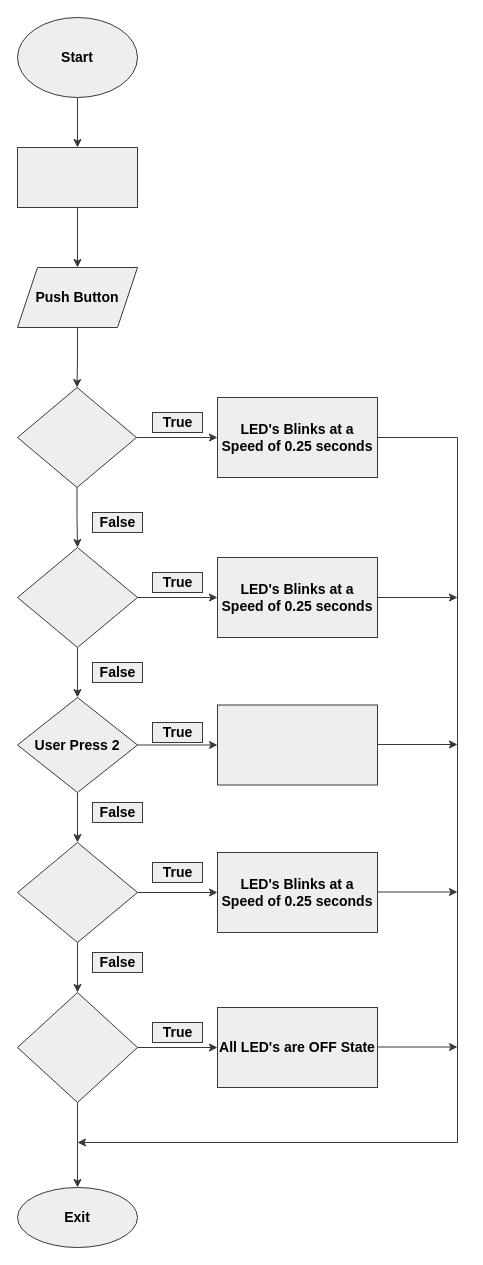
Image size: 483x1265. Some labels were removed from this diagram. The centre of each missing label's shape, as x and y in pixels:
5V Voltage: [77,177]
LED's Blinks at a Speed of 0.125 seconds: [297,744]
LED's ON/OFF: [76,437]
User Press 1: [77,597]
User Press 3: [77,892]
User Press 4 for 2 seconds: [77,1047]
